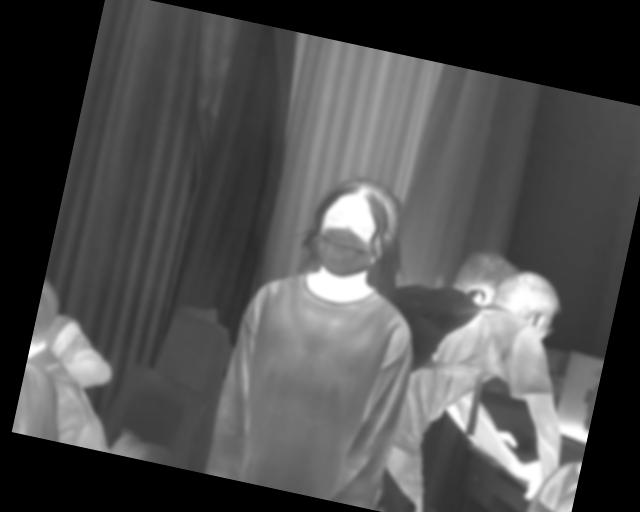face: (304, 169, 407, 287)
